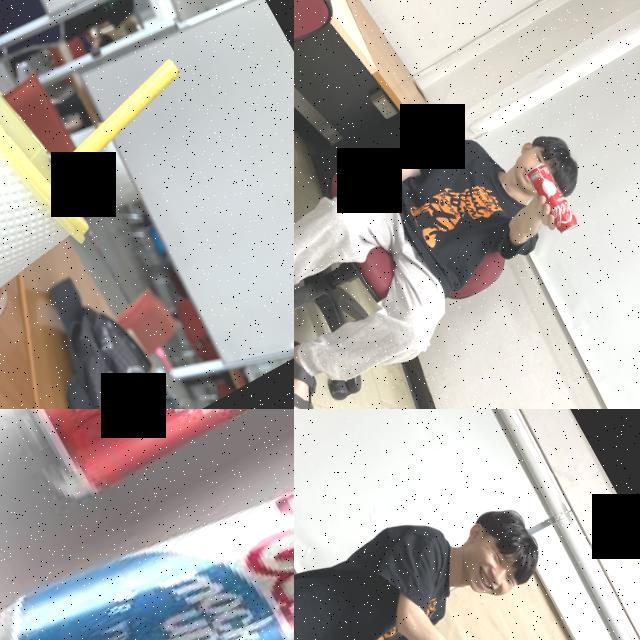can: (0, 409, 294, 640), (0, 409, 294, 511), (523, 160, 580, 237)
cup: (0, 16, 111, 383)
